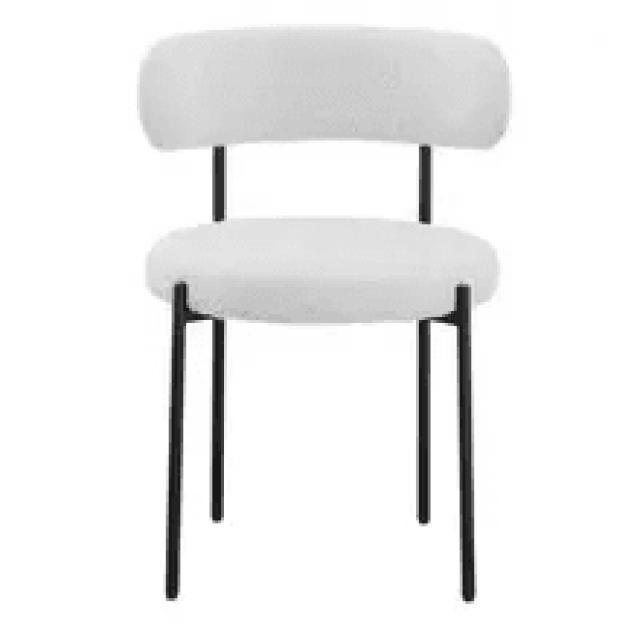chair: (137, 23, 510, 603)
